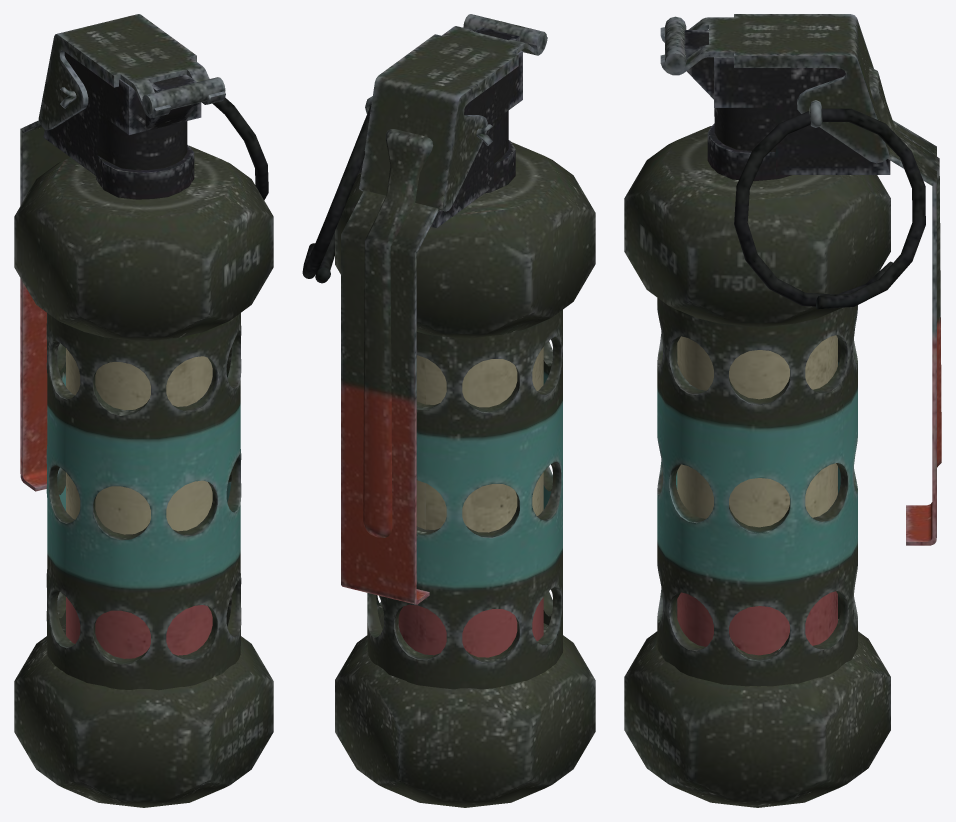
Rendered from flash.glb.
3 views of the same model, side by side, from view 1: azimuth 30°, elevation 25°; view 2: azimuth 150°, elevation 25°; view 3: azimuth 270°, elevation 25° (orthographic). The views are drawn at different scales.
Parts seen in each view (by area): view 1: gun; view 2: gun; view 3: gun.
Boxes of the visible parts, box(x1,y1,x2,y2) form: gun: box(14, 14, 273, 807); gun: box(302, 14, 595, 807); gun: box(624, 14, 941, 807).
Size of the model in its own units: 0.044 by 0.135 by 0.053.
1 material, 1 textured.
